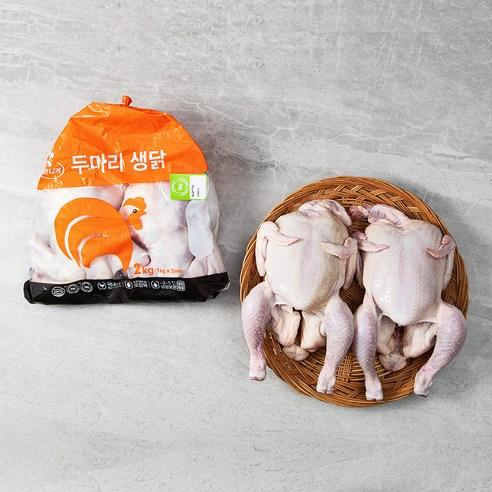chicken: (272, 151, 361, 310), (187, 149, 273, 304)
